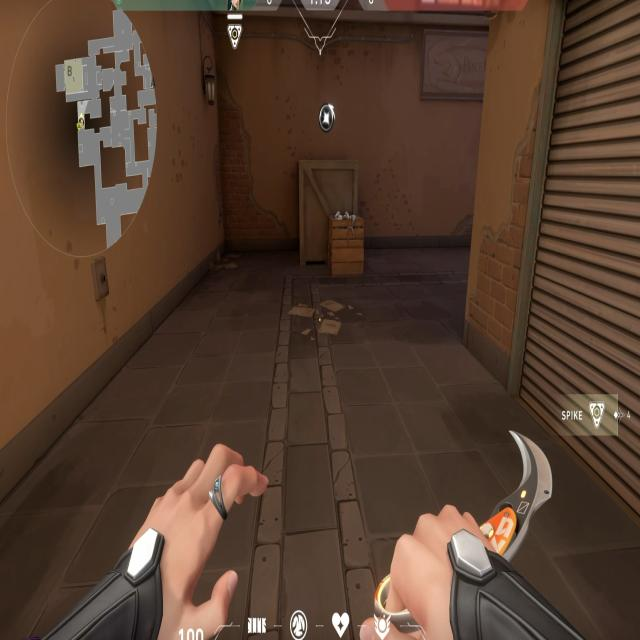B_Main_Wallbang: (240, 97, 346, 260)
